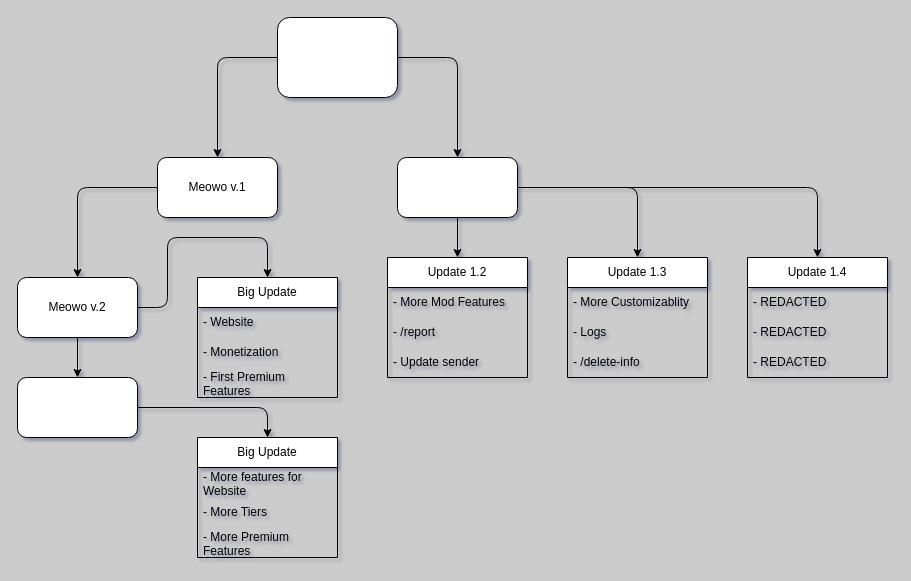
Some shapes in this 911 by 581 pixel diagram are drawn without their labels. The centre of each missing label's shape, as x and y in pixels:
"Meowo ground Concept" belongs at point 337,57.
"Meowo v.3" belongs at point 77,407.
"Updates" belongs at point 457,187.
